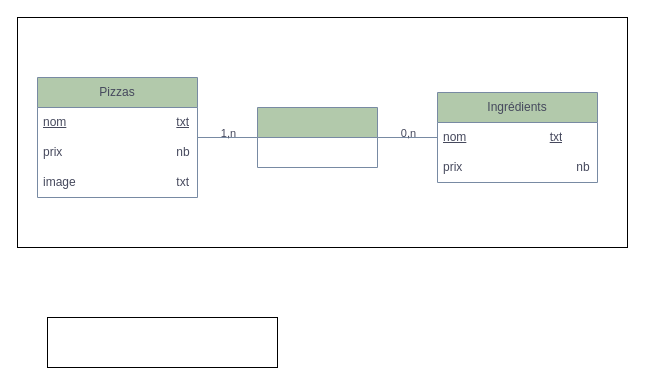
Some shapes in this 645 by 385 pixel diagram are drawn without their labels. The centre of each missing label's shape, as x and y in pixels:
Contenir: the point at 317,137
Nom: Liste des pizzas Auteur: Jason Edmonds Version: 1.0: the point at 162,342
